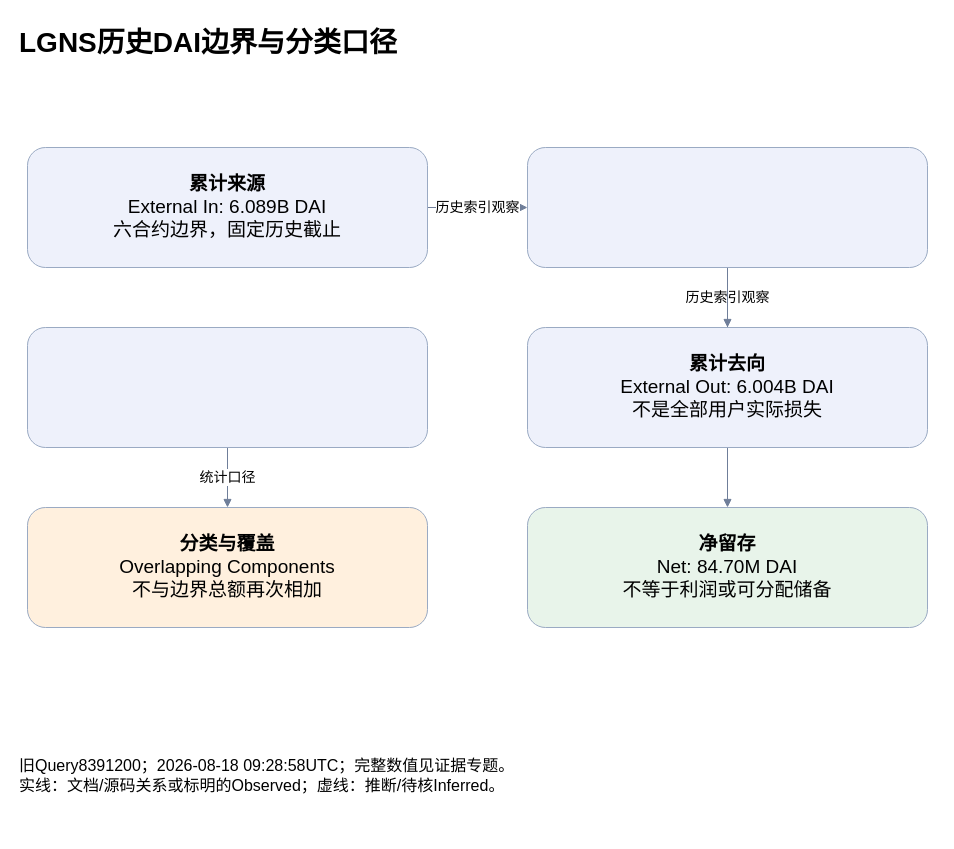
Image size: 954x849. Some labels were removed from this diagram. The centre of each missing label's shape, as x and y in pixels:
"Pair分类 LP Add 563.47M DAI LP Remove 292.17M DAI" goes at (227,387).
"核心集合S Six-Contract Boundary 内部互转不计净外部流量" goes at (727,207).
